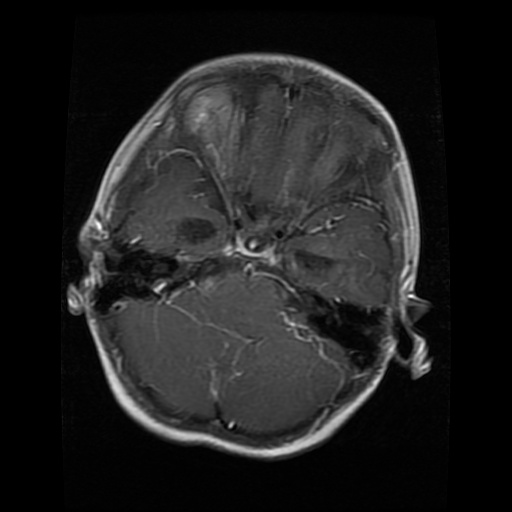glioma: (176, 214, 218, 241)
